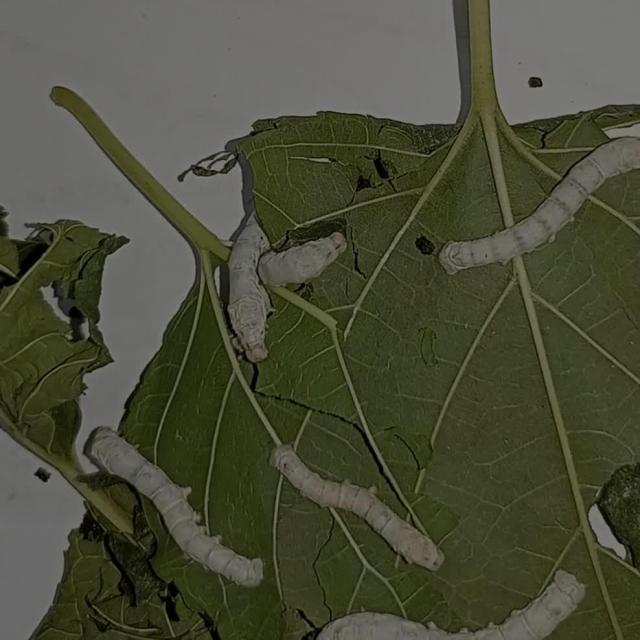Healthy: (264, 409, 609, 640), (428, 60, 640, 328), (78, 386, 270, 619), (195, 160, 363, 382)
